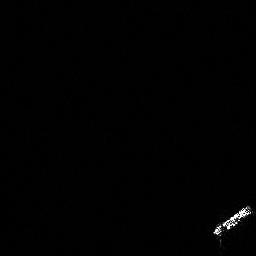ship: (208, 202, 256, 241)
